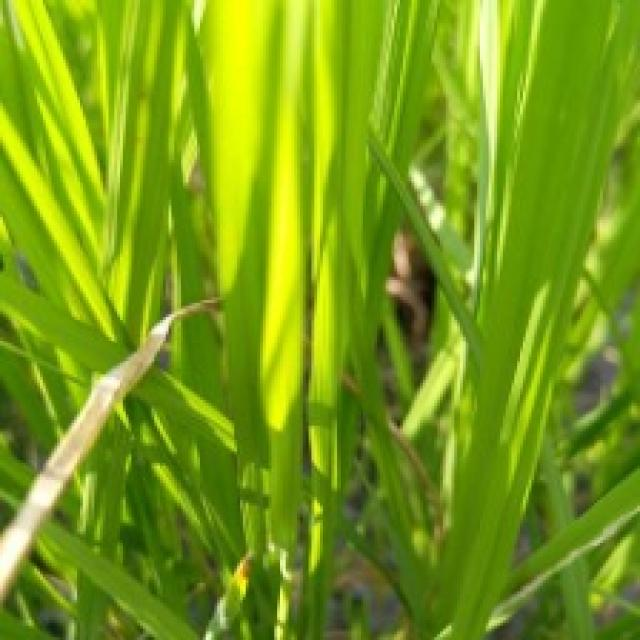Bacterial_Blight: (0, 284, 236, 640)
